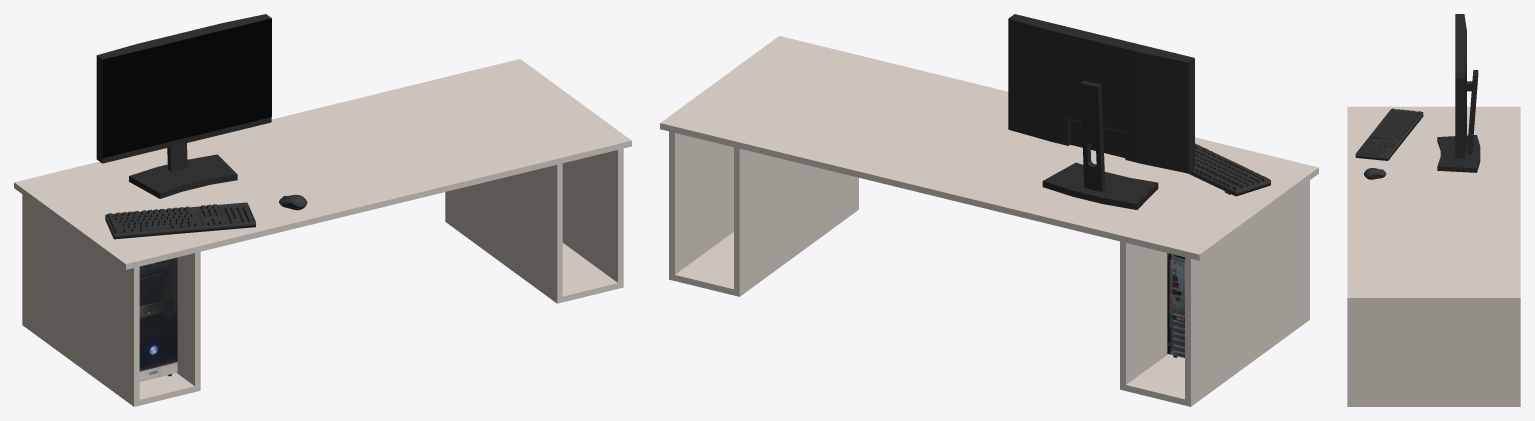
Rendered from MixerTable.glb.
3 views of the same model, side by side, from view 1: azimuth 30°, elevation 25°; view 2: azimuth 150°, elevation 25°; view 3: azimuth 270°, elevation 25° (orthographic). The views are drawn at different scales.
Parts seen in each view (by area): view 1: Cube, Screen, Cube.001, Cube.004, Cube.006, Dell Monitor, Gigabyte Computer, Blender keyboard, Cube.003, Cube.005, Cube.002; view 2: Cube, Dell Monitor, Cube.001, Cube.004, Cube.006, Cube.003, Blender keyboard, Cube.005, Cube.002, Gigabyte Computer; view 3: Cube, Cube.006, Dell Monitor, Blender keyboard.
Part boxes in pixels (box(x1,y1,x2,y2)): Cube: box(14, 59, 631, 269); Screen: box(102, 18, 271, 157); Cube.001: box(22, 194, 139, 406); Cube.004: box(445, 163, 562, 303); Cube.006: box(562, 148, 623, 288); Dell Monitor: box(96, 14, 271, 198); Gigabyte Computer: box(139, 257, 177, 381); Blender keyboard: box(105, 202, 255, 239); Cube.003: box(177, 252, 200, 391); Cube.005: box(562, 243, 617, 302); Cube.002: box(139, 373, 194, 405); Cube: box(660, 36, 1318, 260); Dell Monitor: box(1008, 14, 1194, 209); Cube.001: box(1185, 180, 1309, 406); Cube.004: box(734, 147, 858, 296); Cube.006: box(669, 131, 733, 280); Cube.003: box(1120, 241, 1167, 390); Blender keyboard: box(1188, 143, 1270, 196); Cube.005: box(675, 232, 733, 295); Cube.002: box(1126, 354, 1184, 405); Gigabyte Computer: box(1167, 253, 1184, 357); Cube: box(1347, 106, 1520, 302); Cube.006: box(1347, 302, 1520, 406); Dell Monitor: box(1437, 14, 1480, 172); Blender keyboard: box(1355, 108, 1423, 160).
Size of the model in its own units: 1.83 by 0.9921 by 0.7.
8 materials, 1 textured.
